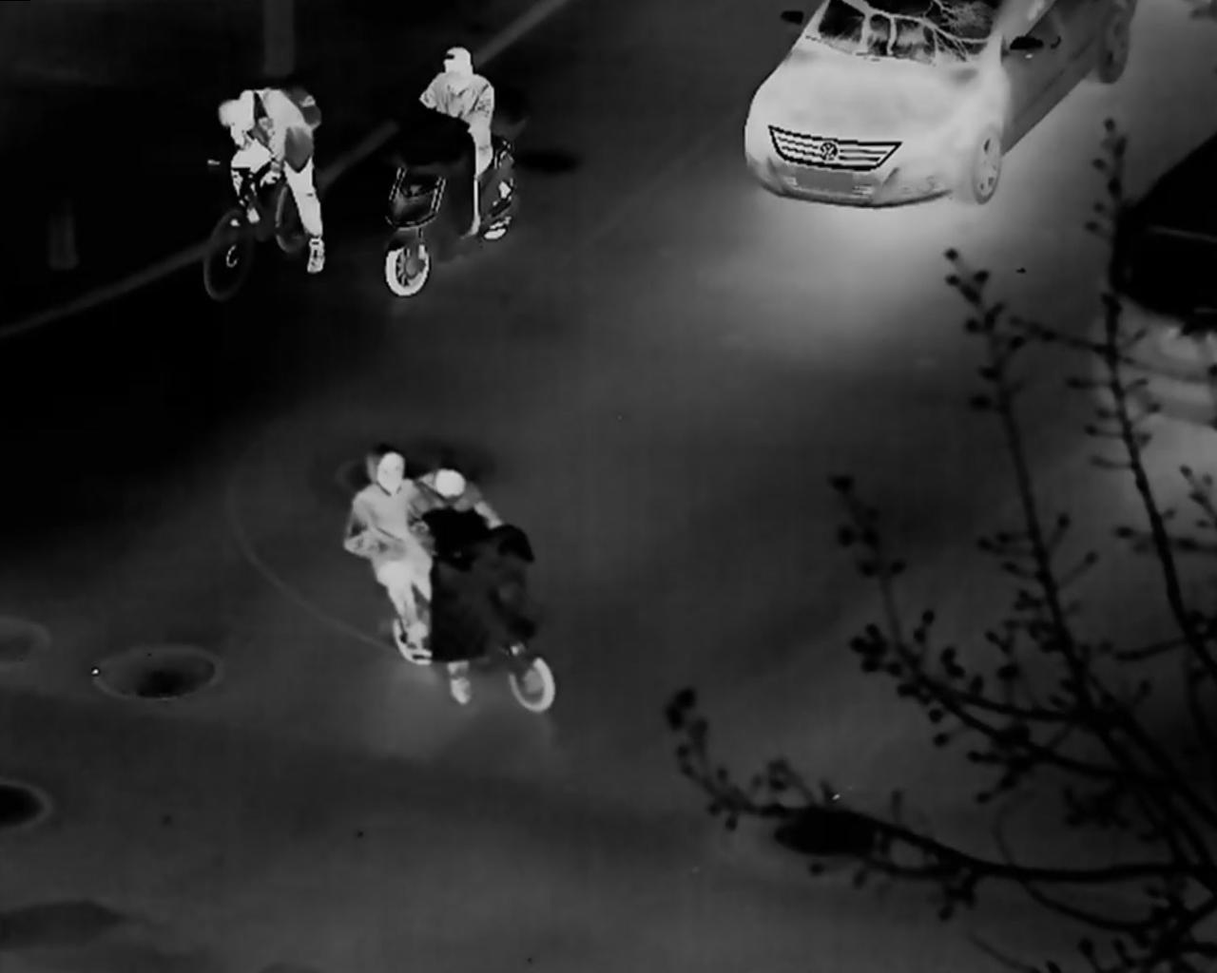person: (216, 81, 333, 275), (338, 446, 436, 647), (417, 44, 493, 239), (416, 455, 502, 525)
